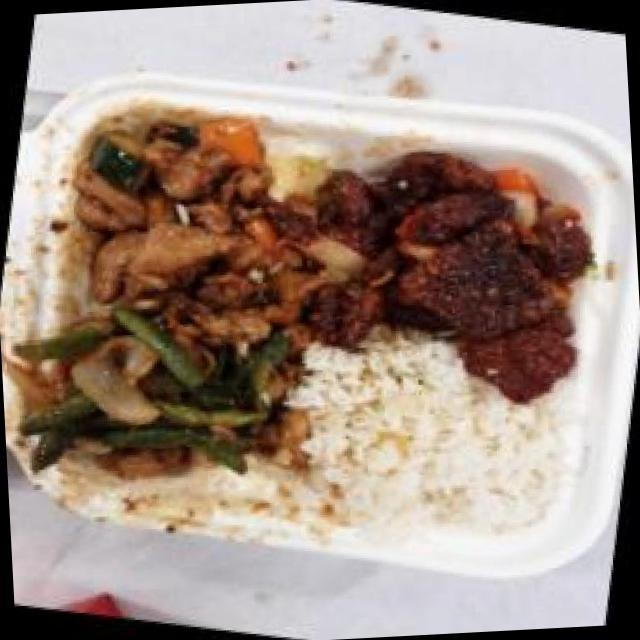Beijing Beef: (291, 125, 624, 429)
Kung Pao Chicken: (38, 82, 344, 360)
String Bean Chicken Breast: (0, 281, 309, 514)
White Steamed Rice: (274, 332, 575, 570)
